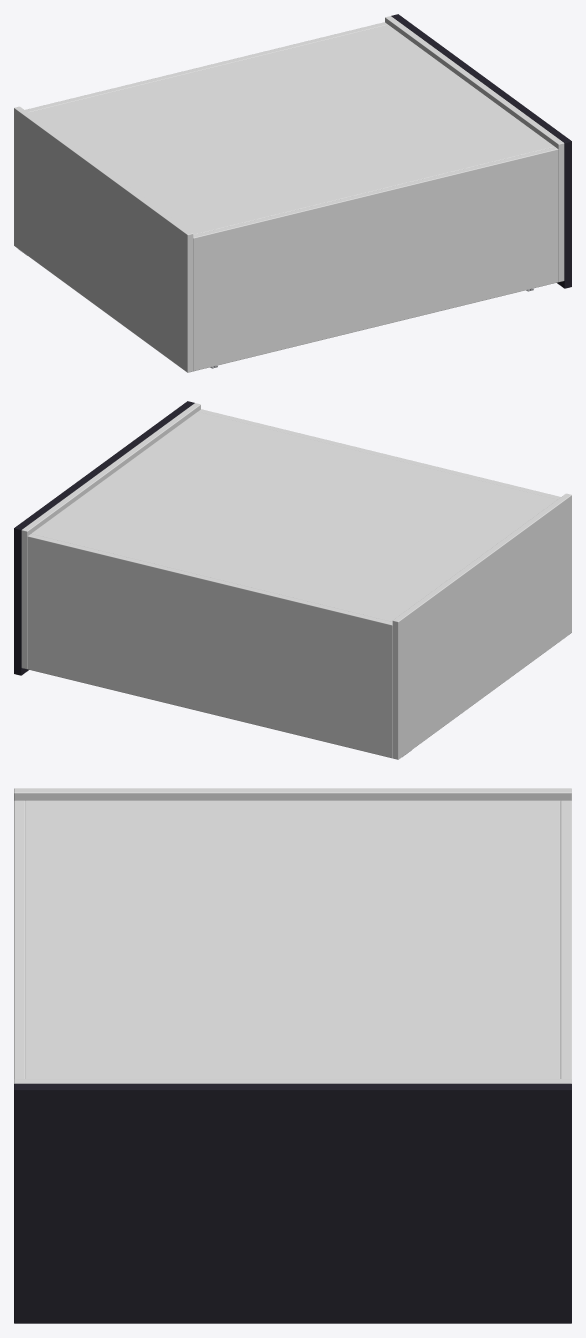
File: SM_Kitchen_04_Base.obj
3 views of the same model, one above another, from view 1: azimuth 30°, elevation 25°; view 2: azimuth 150°, elevation 25°; view 3: azimuth 270°, elevation 25° (orthographic). The views are drawn at different scales.
Visible parts, largest first — view 1: SM_Kitchen_04_Base; view 2: SM_Kitchen_04_Base; view 3: SM_Kitchen_04_Base.
Boxes of the visible parts, bbox=[...] form: SM_Kitchen_04_Base: bbox=[14, 14, 571, 372]; SM_Kitchen_04_Base: bbox=[14, 401, 571, 759]; SM_Kitchen_04_Base: bbox=[14, 788, 571, 1323].
Bounding box in the file's own units: 1.02 × 0.37 × 0.798.
Materials: 4 (4 with a texture image).
